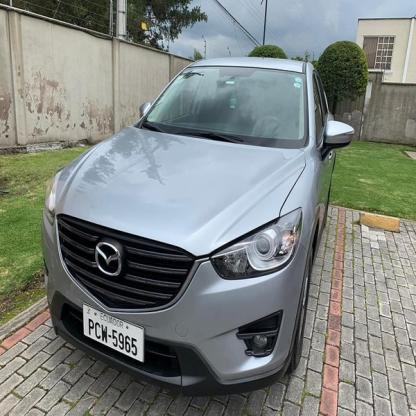Placa: (78, 304, 147, 366)
